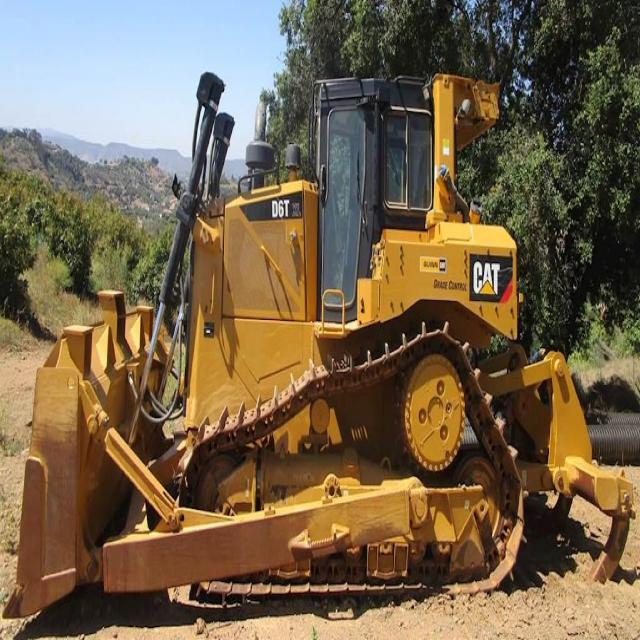Bulldozer: (8, 32, 636, 602)
